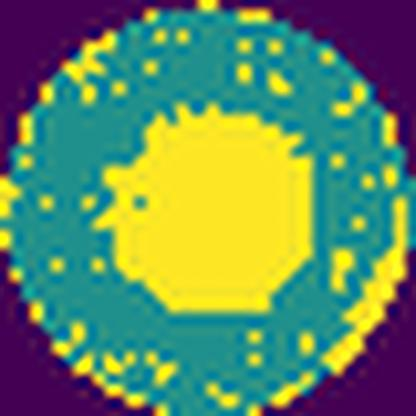Center: (99, 106, 312, 312)
